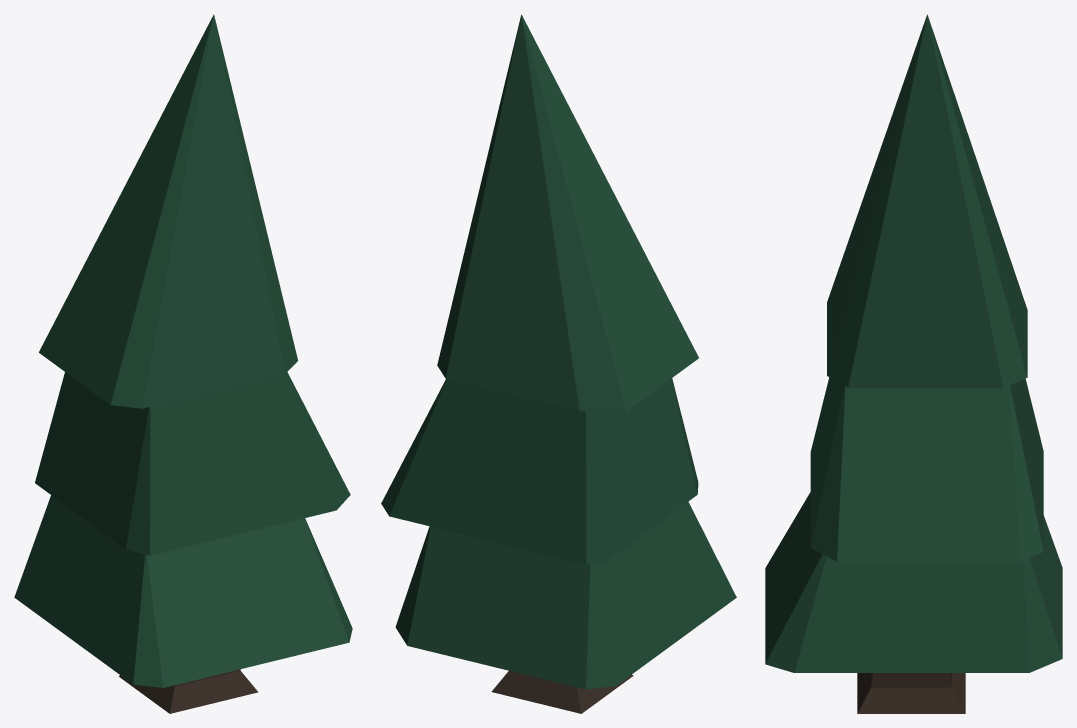
The model's file is rn_pine_small.glb.
3 renders of one model, left to right at view 1: azimuth 30°, elevation 25°; view 2: azimuth 150°, elevation 25°; view 3: azimuth 270°, elevation 25°, orthographic. The views are drawn at different scales.
Parts seen in each view (by area): view 1: rn_pine_small; view 2: rn_pine_small; view 3: rn_pine_small.
Boxes of the visible parts, x1=… form: rn_pine_small: x1=14, y1=14, x2=352, y2=713; rn_pine_small: x1=381, y1=14, x2=736, y2=713; rn_pine_small: x1=765, y1=14, x2=1062, y2=713.
Bounding box in the file's own units: 1.23 × 3.2 × 1.24.
